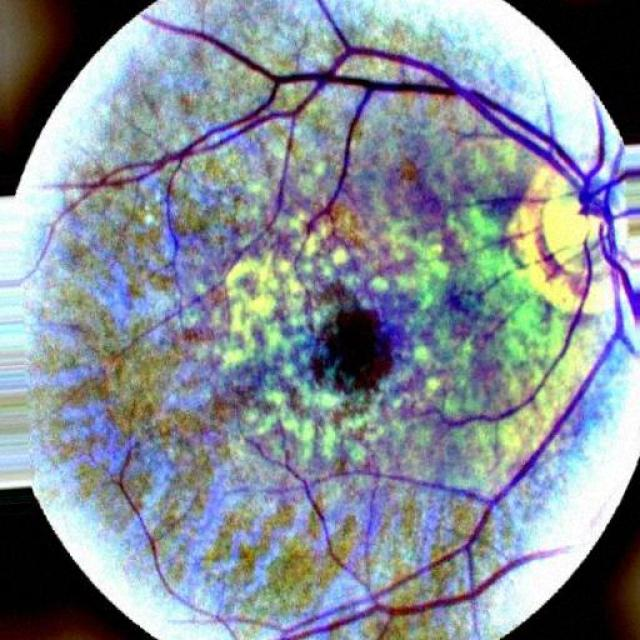Macula: (314, 305, 402, 397)
Nerves: (356, 221, 626, 610), (132, 45, 590, 207), (425, 240, 597, 430)
Optic Disk: (511, 170, 639, 310)
